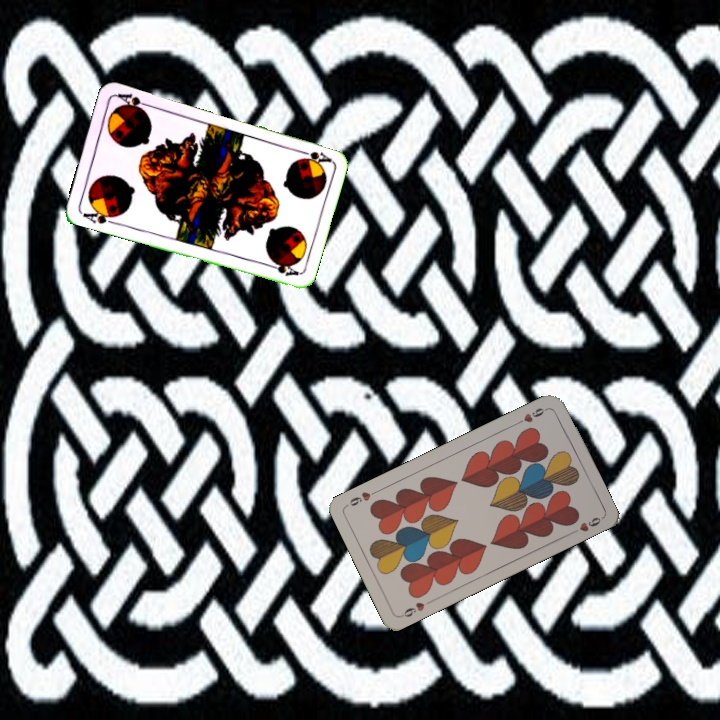H9: (396, 596, 434, 620), (512, 403, 550, 427)
SA: (79, 204, 120, 227), (293, 145, 333, 165)
